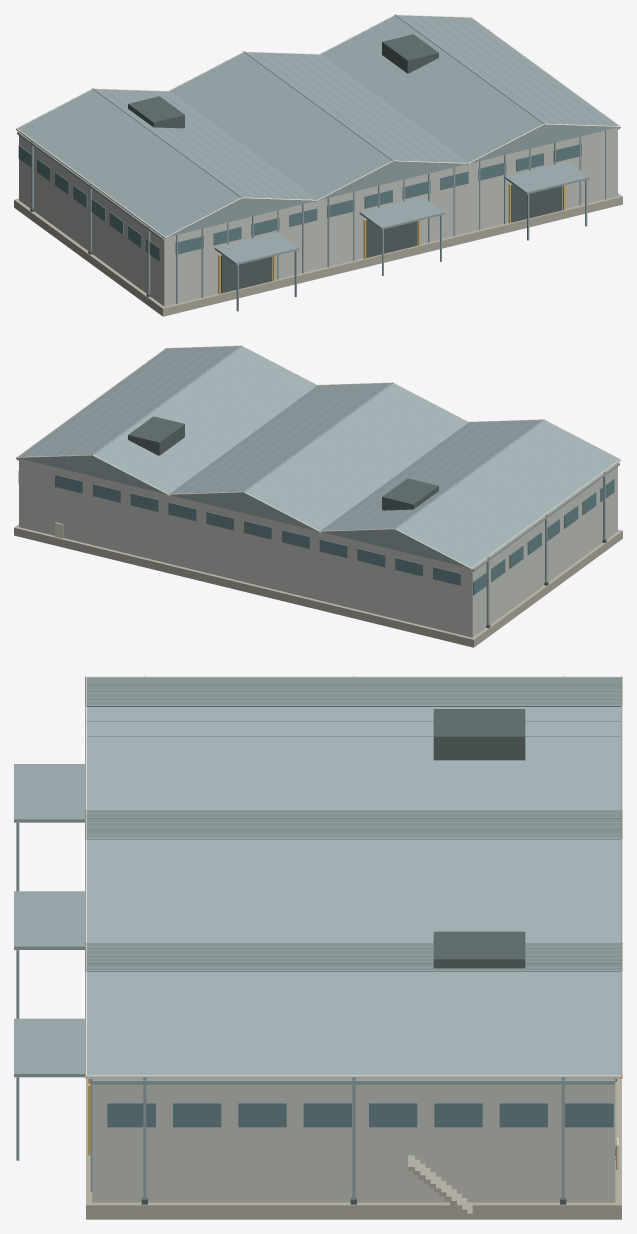
3 views of the same model, one above another, from view 1: azimuth 30°, elevation 25°; view 2: azimuth 150°, elevation 25°; view 3: azimuth 270°, elevation 25° (orthographic). The views are drawn at different scales.
Size of the model in its own units: 74.65 by 15.5 by 46.58.
